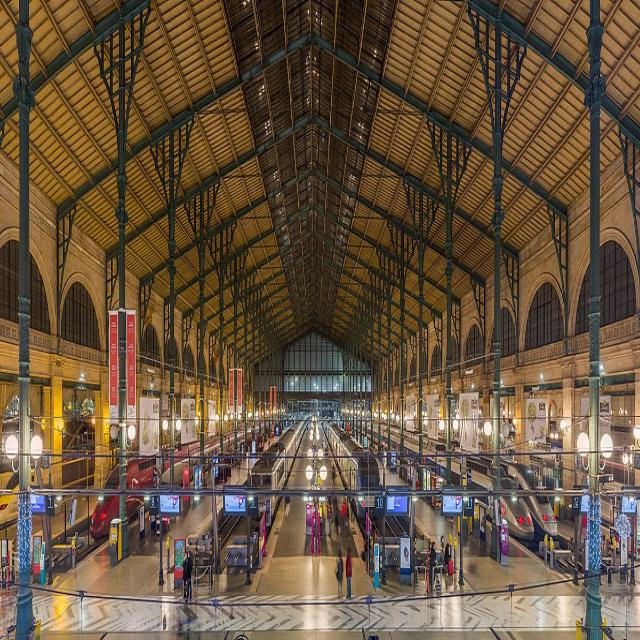body: (334, 551, 344, 601), (184, 550, 193, 602), (344, 546, 352, 600), (181, 550, 189, 600), (430, 541, 436, 593), (326, 499, 334, 538), (349, 494, 358, 526), (318, 501, 325, 539), (333, 500, 340, 536), (339, 498, 346, 533), (283, 486, 290, 520), (320, 441, 330, 463), (361, 537, 369, 564), (235, 459, 242, 482)
